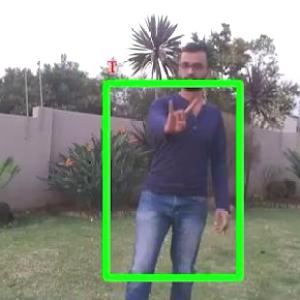takeoff-hand: (152, 92, 199, 138)
